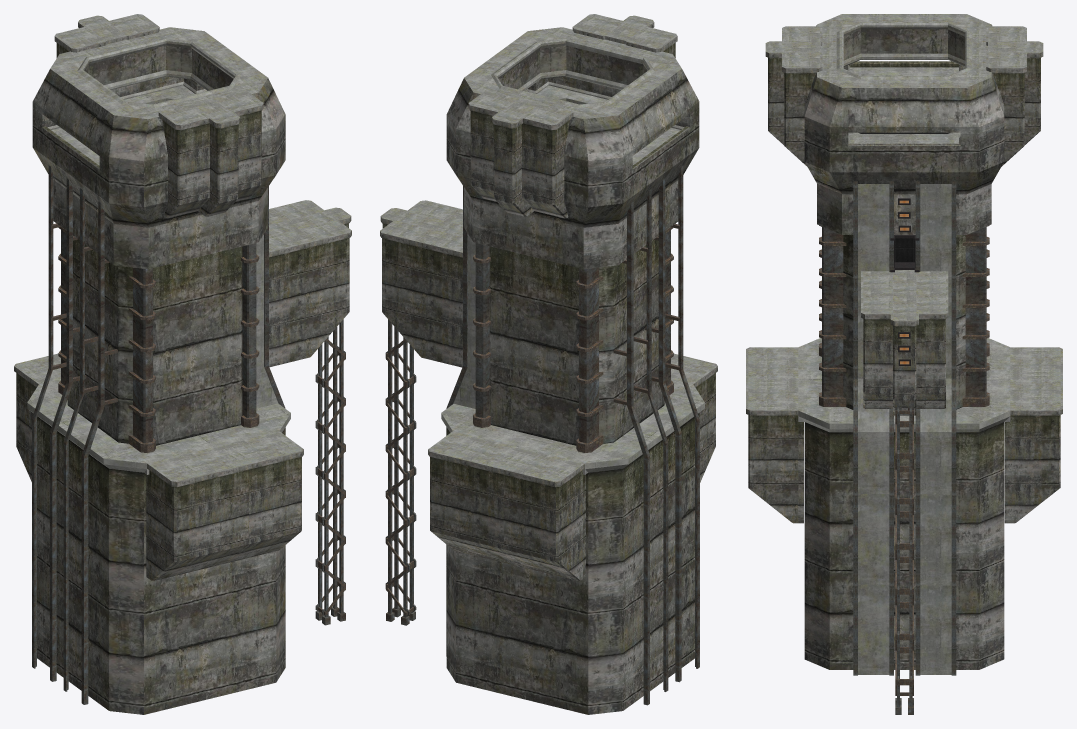
Rendered from sniper_no_notches.fbx.
3 renders of one model, left to right at view 1: azimuth 30°, elevation 25°; view 2: azimuth 150°, elevation 25°; view 3: azimuth 270°, elevation 25°, orthographic.
Parts seen in each view (by area): view 1: Object; view 2: Object; view 3: Object.
Boxes of the visible parts, bbox=[...] form: Object: bbox=[14, 14, 351, 714]; Object: bbox=[380, 14, 717, 714]; Object: bbox=[746, 14, 1062, 714].
Size of the model in its own units: 5225 by 10262 by 5078.
